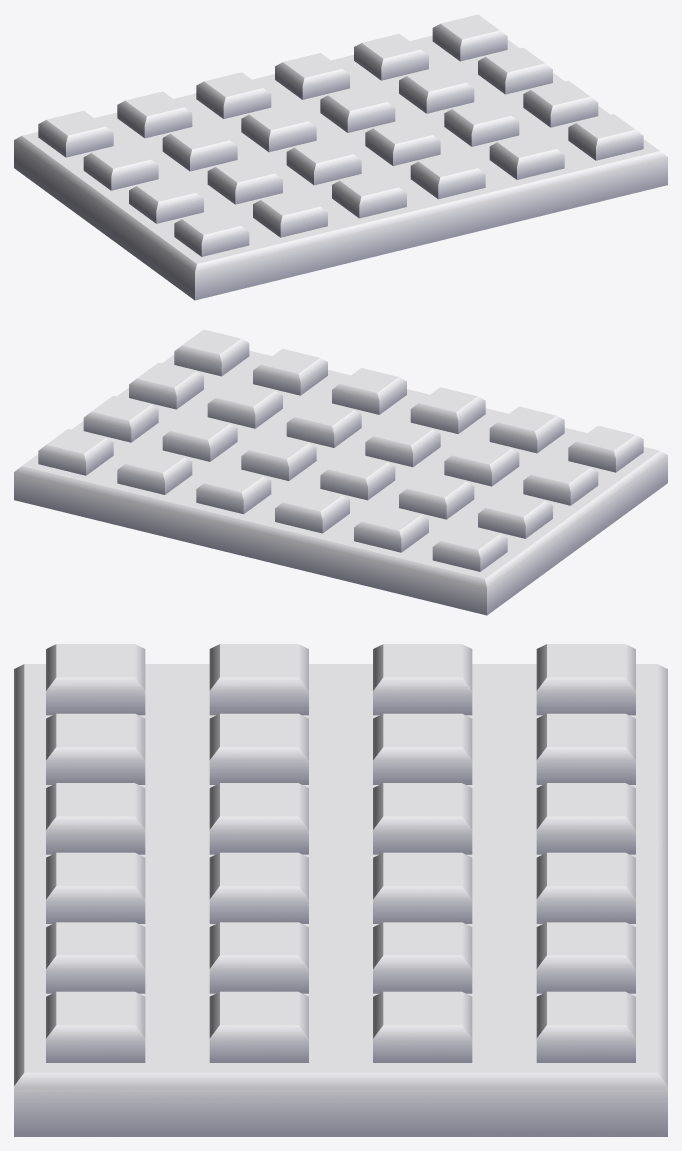
The model's file is brick-kit--square-hq-plate-4x6.glb.
The picture shows the model from 3 angles, top to bottom: view 1: azimuth 30°, elevation 25°; view 2: azimuth 150°, elevation 25°; view 3: azimuth 270°, elevation 25°; orthographic projection. The views are drawn at different scales.
Visible parts, largest first — view 1: square-hq-plate-4x6; view 2: square-hq-plate-4x6; view 3: square-hq-plate-4x6.
Boxes of the visible parts, x1,y1,x2,y2 form: square-hq-plate-4x6: (14, 14, 667, 300); square-hq-plate-4x6: (14, 329, 667, 615); square-hq-plate-4x6: (14, 644, 667, 1136).
Size of the model in its own units: 0.477 by 0.05 by 0.316.
Materials: 1 (1 with a texture image).
